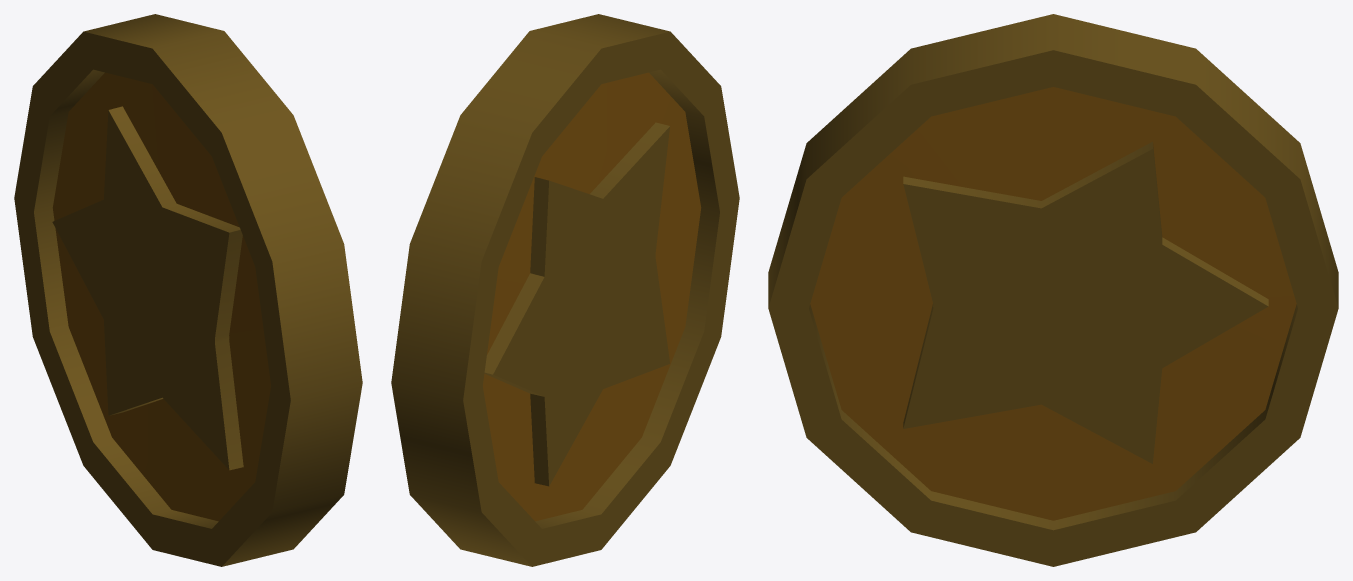
File: coin.fbx
The picture shows the model from 3 angles, left to right: view 1: azimuth 30°, elevation 25°; view 2: azimuth 150°, elevation 25°; view 3: azimuth 270°, elevation 25°; orthographic projection. The views are drawn at different scales.
Parts seen in each view (by area): view 1: Cylinder; view 2: Cylinder; view 3: Cylinder.
Boxes of the visible parts, x1,y1,x2,y2 form: Cylinder: (14,14,362,566); Cylinder: (391,14,739,566); Cylinder: (768,14,1338,566).
Bounding box in the file's own units: 30.01 × 200 × 200.
